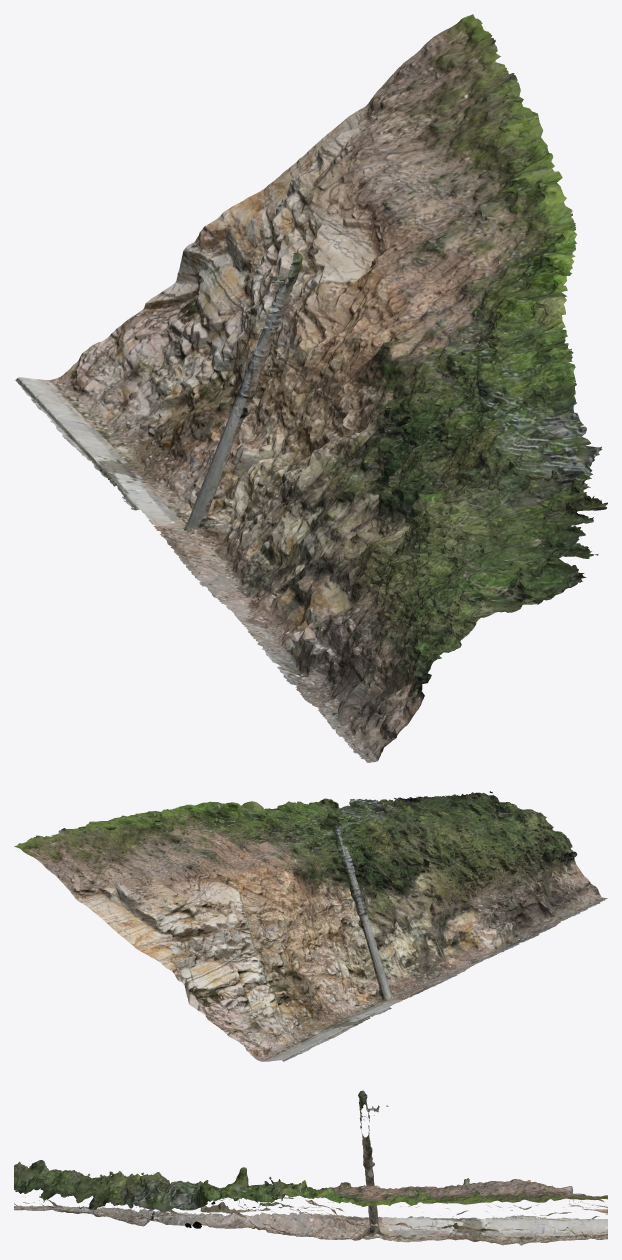
3 renders of one model, top to bottom at view 1: azimuth 30°, elevation 25°; view 2: azimuth 150°, elevation 25°; view 3: azimuth 270°, elevation 25°, orthographic. The views are drawn at different scales.
Bounding box in the file's own units: 14.44 × 7.1 × 20.22.
Materials: 2 (2 with a texture image).
